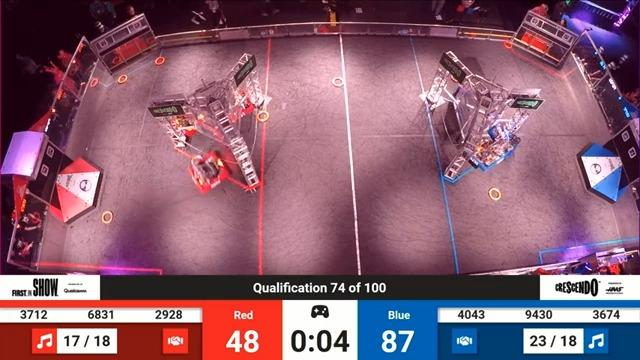robot: (186, 151, 236, 196), (161, 101, 213, 138), (468, 139, 507, 176), (487, 123, 523, 159), (228, 93, 258, 124)
